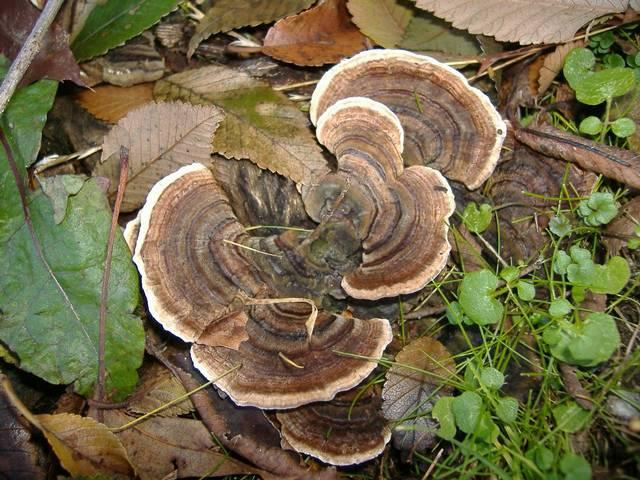poisonous_mushroom: (120, 150, 402, 461), (299, 47, 507, 301)
